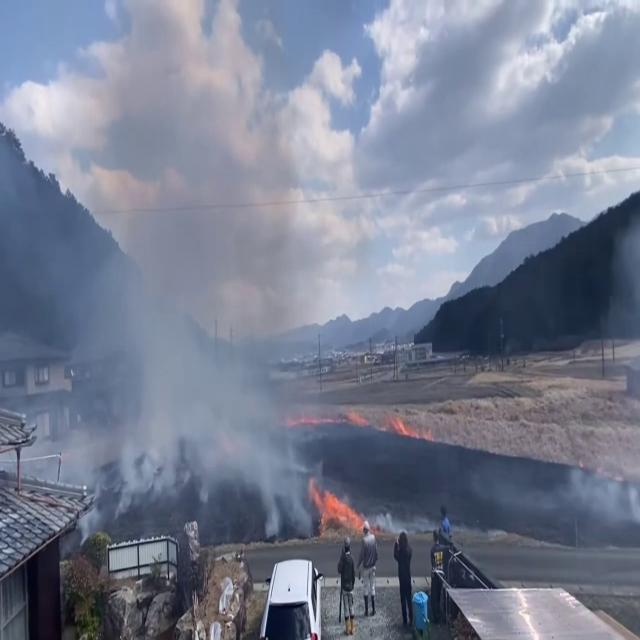Fire: (311, 480, 365, 536)
Smoke: (46, 85, 326, 535)
